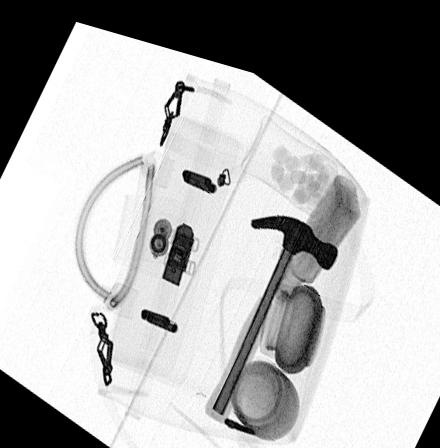Hammer: (204, 197, 340, 412)
